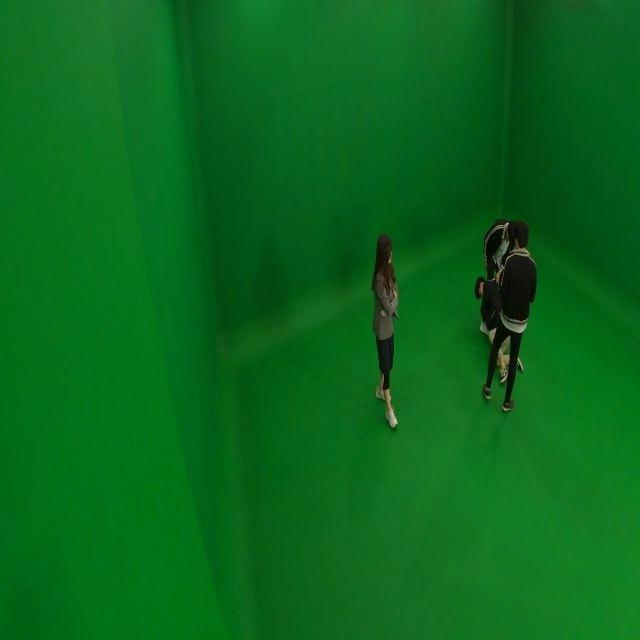fight: (475, 216, 538, 413)
non-fight: (369, 235, 404, 427)
